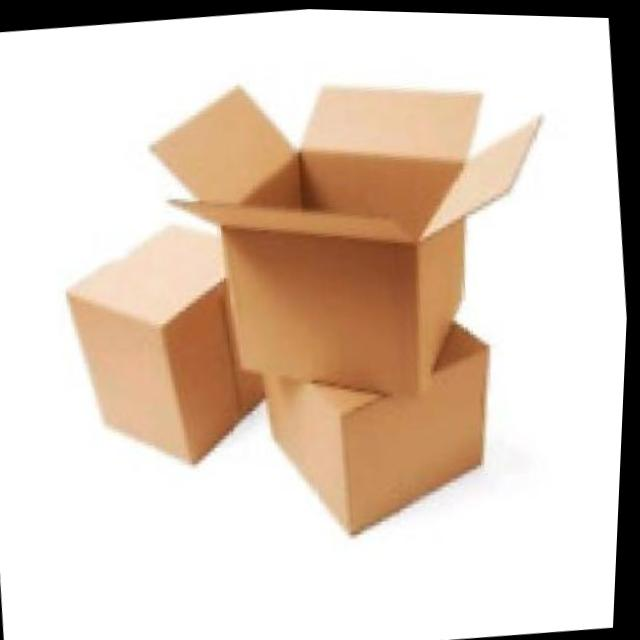box: (125, 33, 577, 435), (244, 318, 516, 564), (37, 209, 266, 498)
